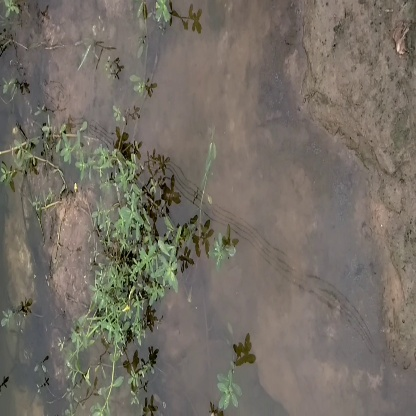grass: (89, 199, 195, 323)
